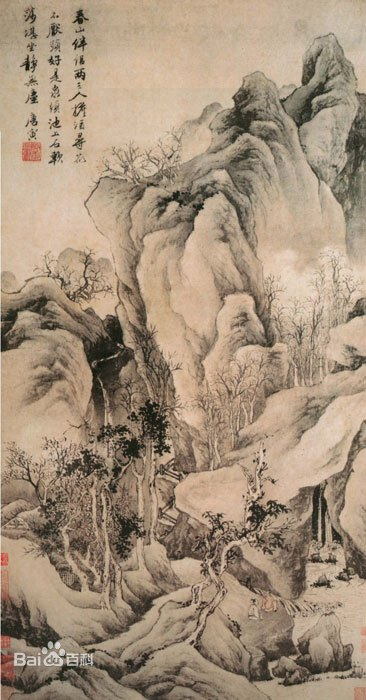hill: (108, 37, 366, 382), (6, 548, 174, 700), (2, 260, 108, 432), (265, 399, 359, 480), (175, 646, 280, 700), (283, 616, 352, 677)
man: (248, 593, 279, 615)
tree: (16, 410, 175, 580), (195, 459, 288, 584), (267, 267, 353, 385), (211, 371, 276, 455), (109, 135, 187, 185), (48, 253, 110, 307)
